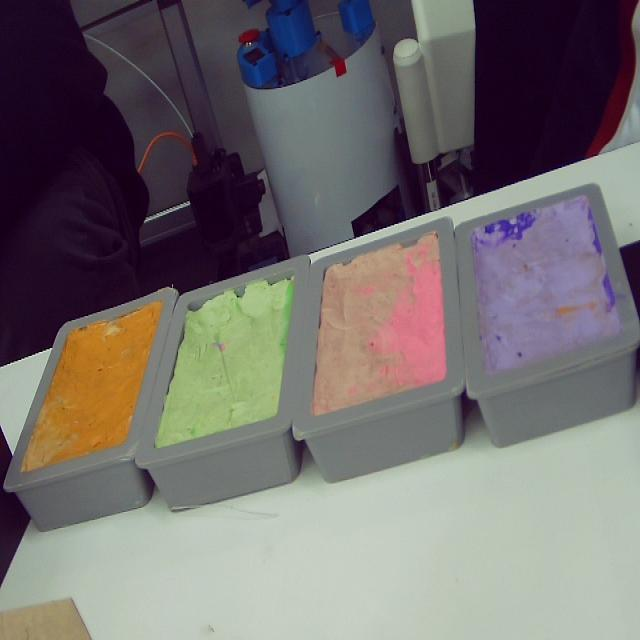block: (452, 182, 638, 449), (290, 216, 467, 482), (132, 257, 312, 508), (1, 286, 177, 529)
